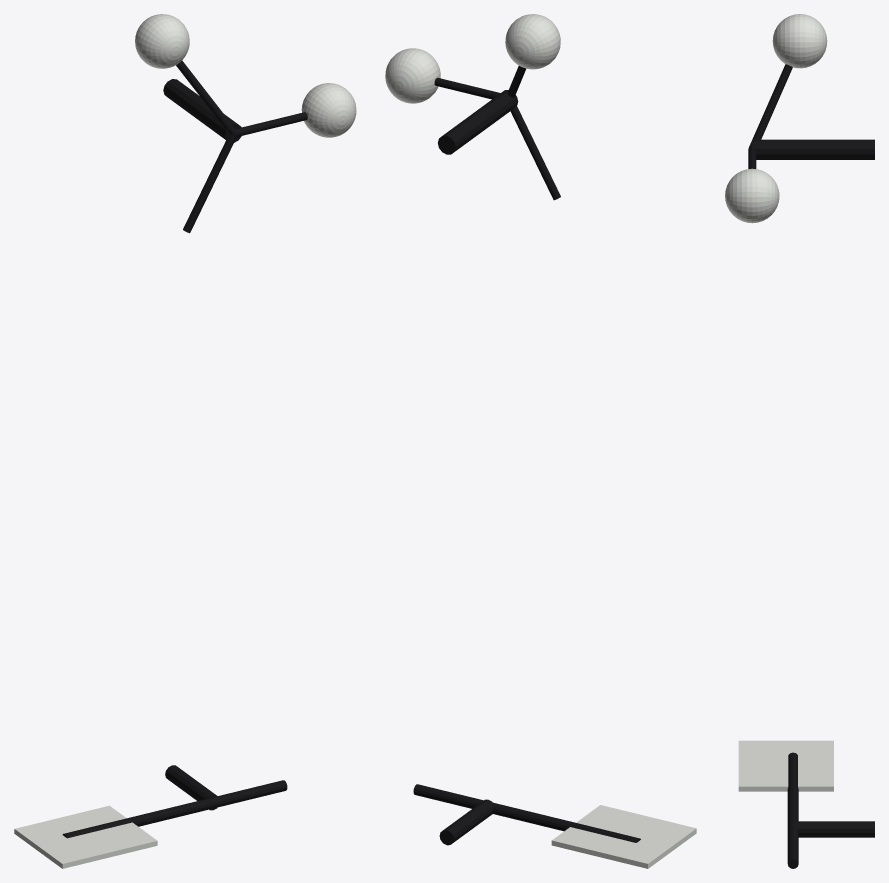
File: anemometer_damaged.glb
The picture shows the model from 3 angles, left to right: view 1: azimuth 30°, elevation 25°; view 2: azimuth 150°, elevation 25°; view 3: azimuth 270°, elevation 25°; orthographic projection.
Parts seen in each view (by area): view 1: anemometer_damaged; view 2: anemometer_damaged; view 3: anemometer_damaged.
Part boxes in pixels (bbox=[...]): anemometer_damaged: bbox=[14, 14, 356, 868]; anemometer_damaged: bbox=[385, 14, 696, 868]; anemometer_damaged: bbox=[725, 14, 874, 868].
Size of the model in its own units: 0.5 by 1.29 by 0.22.
2 materials, 1 textured.
